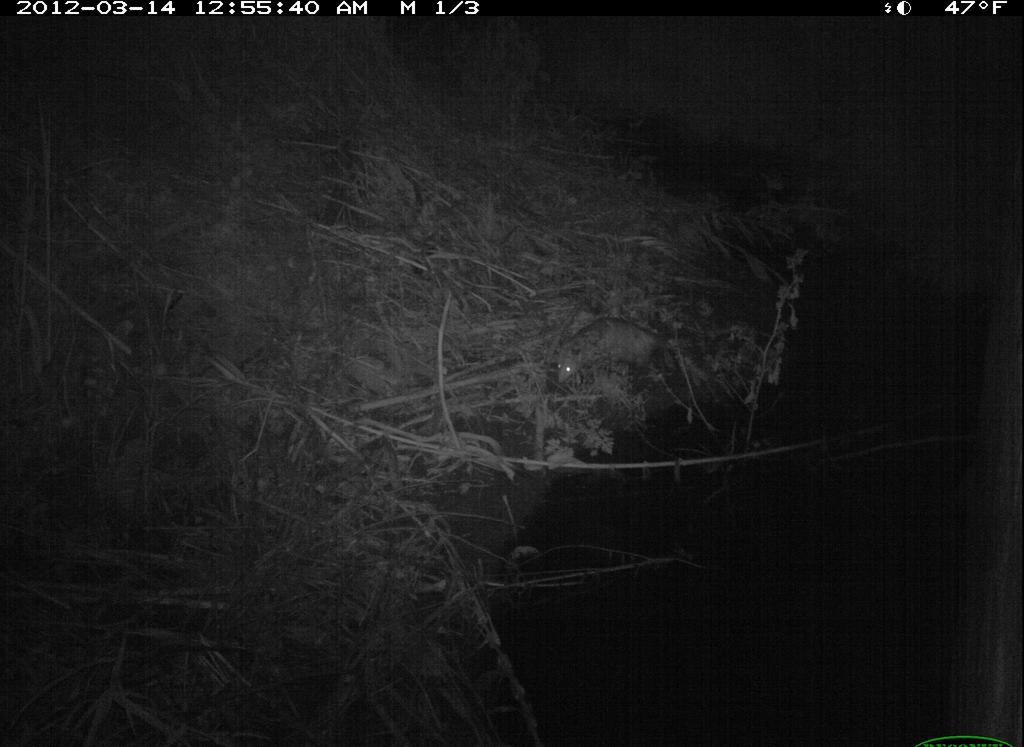opossum: (553, 313, 699, 385)
